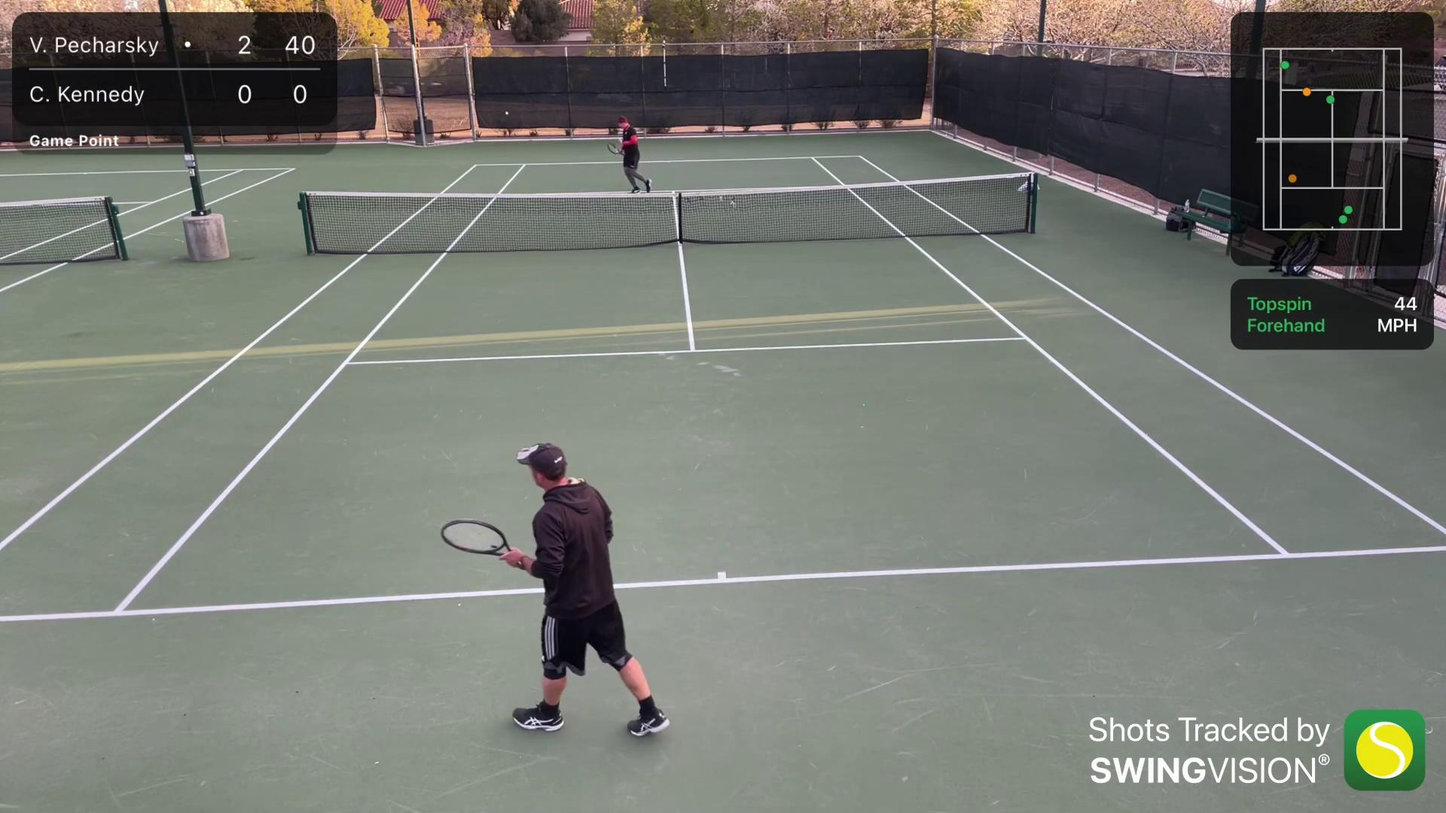ball: (503, 109, 509, 117)
